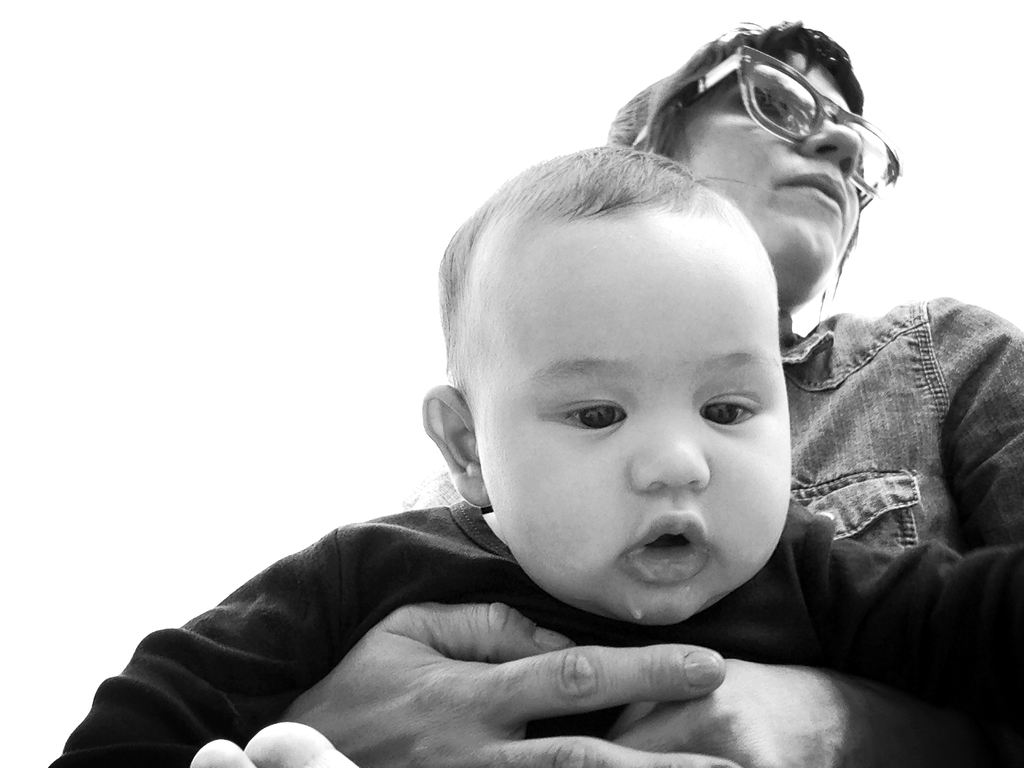Human_hand: (285, 600, 747, 767), (614, 658, 860, 767), (188, 722, 354, 767)
